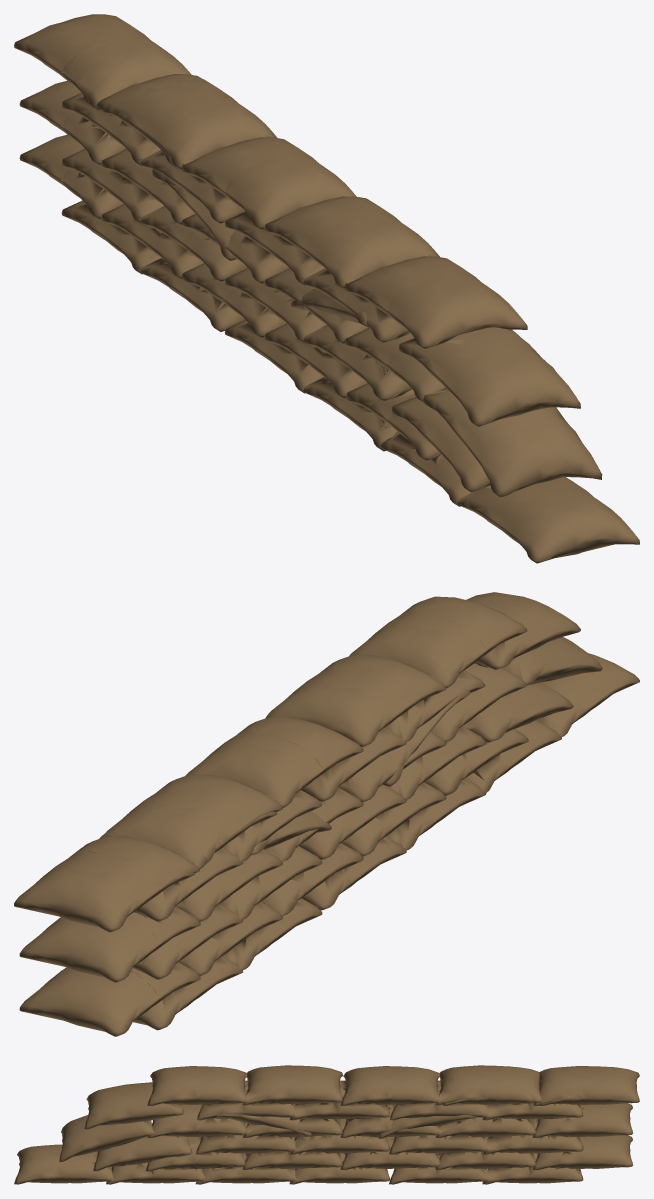
File: barricades_1.fbx
3 views of the same model, one above another, from view 1: azimuth 30°, elevation 25°; view 2: azimuth 150°, elevation 25°; view 3: azimuth 270°, elevation 25° (orthographic). The views are drawn at different scales.
Visible parts, largest first — view 1: Sandbag_LQ.001, Sandbag_LQ, Sandbag_LQ.017, Sandbag_LQ.006, Sandbag_LQ.016, Sandbag_LQ.012, Sandbag_LQ.014, Sandbag_LQ.018, Sandbag_LQ.008, Sandbag_LQ.007, Sandbag_LQ.029, Sandbag_LQ.022 (+3 smaller); view 2: Sandbag_LQ, Sandbag_LQ.017, Sandbag_LQ.001, Sandbag_LQ.006, Sandbag_LQ.018, Sandbag_LQ.022, Sandbag_LQ.029, Sandbag_LQ.014, Sandbag_LQ.016, Sandbag_LQ.007, Sandbag_LQ.008, Sandbag_LQ.012 (+3 smaller); view 3: Sandbag_LQ, Sandbag_LQ.001, Sandbag_LQ.006, Sandbag_LQ.017, Sandbag_LQ.016, Sandbag_LQ.018, Sandbag_LQ.029, Sandbag_LQ.022, Sandbag_LQ.012, Sandbag_LQ.014, Sandbag_LQ.008, Sandbag_LQ.026 (+18 smaller).
Part boxes in pixels (box(x1,y1,x2,y2)): Sandbag_LQ.001: box(61, 35, 318, 327); Sandbag_LQ: box(224, 154, 480, 446); Sandbag_LQ.017: box(60, 35, 452, 451); Sandbag_LQ.006: box(384, 273, 639, 563); Sandbag_LQ.016: box(401, 327, 580, 426); Sandbag_LQ.012: box(425, 392, 602, 497); Sandbag_LQ.014: box(345, 256, 527, 348); Sandbag_LQ.018: box(14, 14, 166, 79); Sandbag_LQ.008: box(394, 407, 490, 492); Sandbag_LQ.007: box(345, 331, 445, 401); Sandbag_LQ.029: box(19, 81, 124, 164); Sandbag_LQ.022: box(19, 134, 115, 218); Sandbag_LQ: box(237, 612, 487, 909); Sandbag_LQ.017: box(85, 612, 487, 1030); Sandbag_LQ.001: box(70, 732, 324, 1023); Sandbag_LQ.006: box(399, 603, 639, 787); Sandbag_LQ.018: box(14, 845, 159, 932); Sandbag_LQ.022: box(19, 962, 185, 1036); Sandbag_LQ.029: box(19, 907, 184, 982); Sandbag_LQ.014: box(350, 596, 527, 686); Sandbag_LQ.016: box(466, 592, 580, 663); Sandbag_LQ.007: box(432, 664, 527, 742); Sandbag_LQ.008: box(494, 682, 573, 736); Sandbag_LQ.012: box(516, 637, 602, 681); Sandbag_LQ: box(197, 1065, 389, 1184); Sandbag_LQ.001: box(390, 1065, 582, 1184); Sandbag_LQ.006: box(14, 1066, 197, 1184); Sandbag_LQ.017: box(196, 1066, 583, 1183); Sandbag_LQ.016: box(84, 1082, 180, 1129); Sandbag_LQ.018: box(539, 1066, 639, 1105); Sandbag_LQ.029: box(533, 1103, 633, 1138); Sandbag_LQ.022: box(533, 1135, 633, 1169); Sandbag_LQ.012: box(59, 1115, 151, 1162); Sandbag_LQ.014: box(147, 1066, 246, 1105); Sandbag_LQ.008: box(93, 1136, 188, 1171); Sandbag_LQ.026: box(289, 1156, 389, 1184).
Size of the model in its own units: 315 by 509 by 2729.
